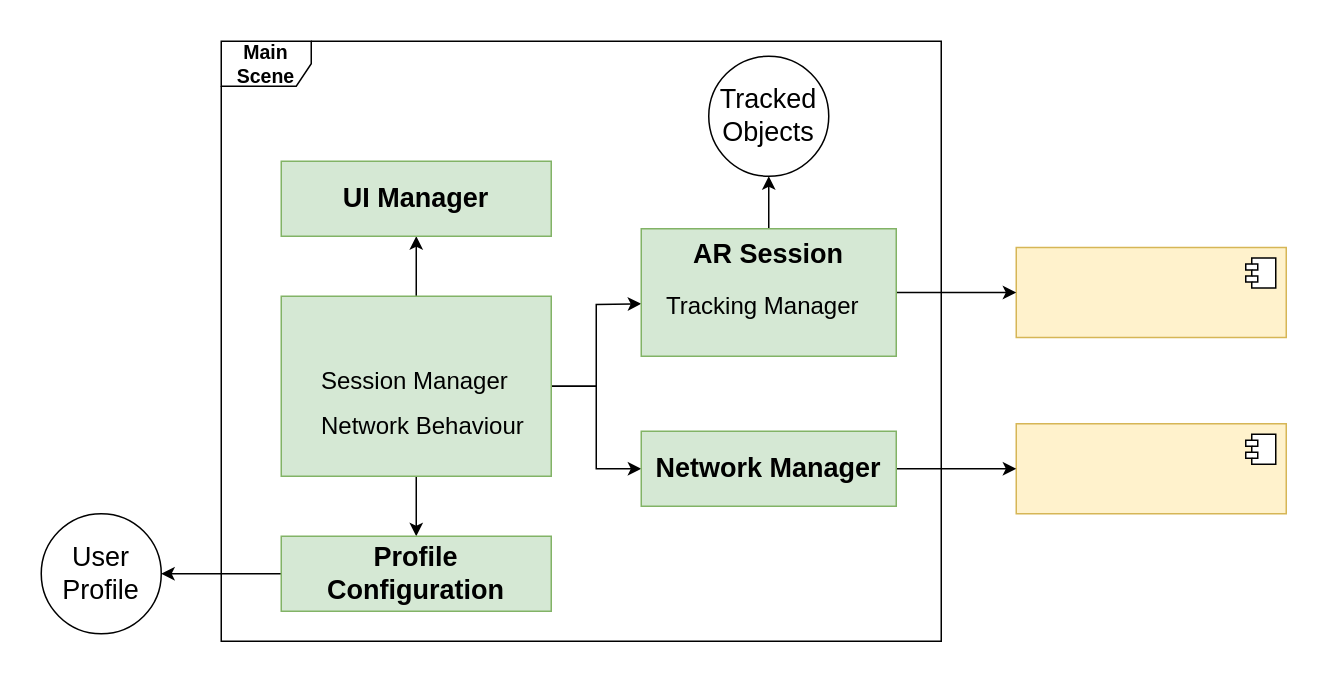
Image size: 1326x681. Some labels were removed from this diagram. The box of each missing label's shape, as (x1, y1, x2, y2) in pixels:
AR Foundation: (1015, 246, 1286, 338)
Shared AR: (1015, 422, 1286, 514)
User Anchor: (280, 295, 551, 476)
